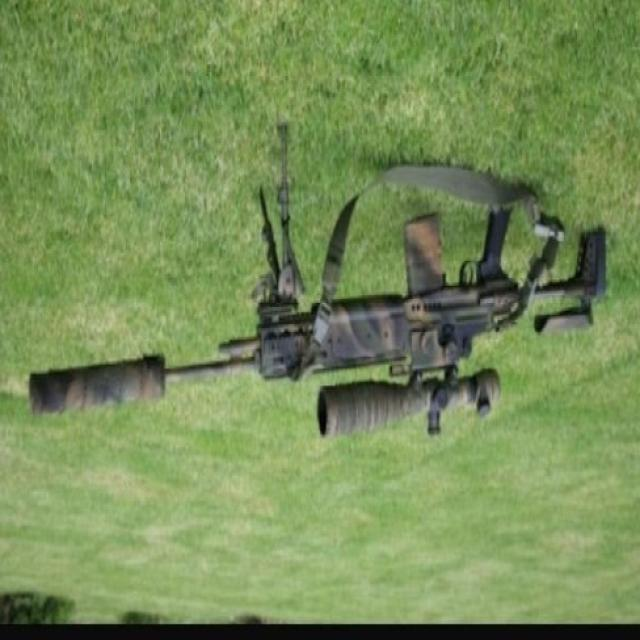Gun: (6, 125, 622, 473)
